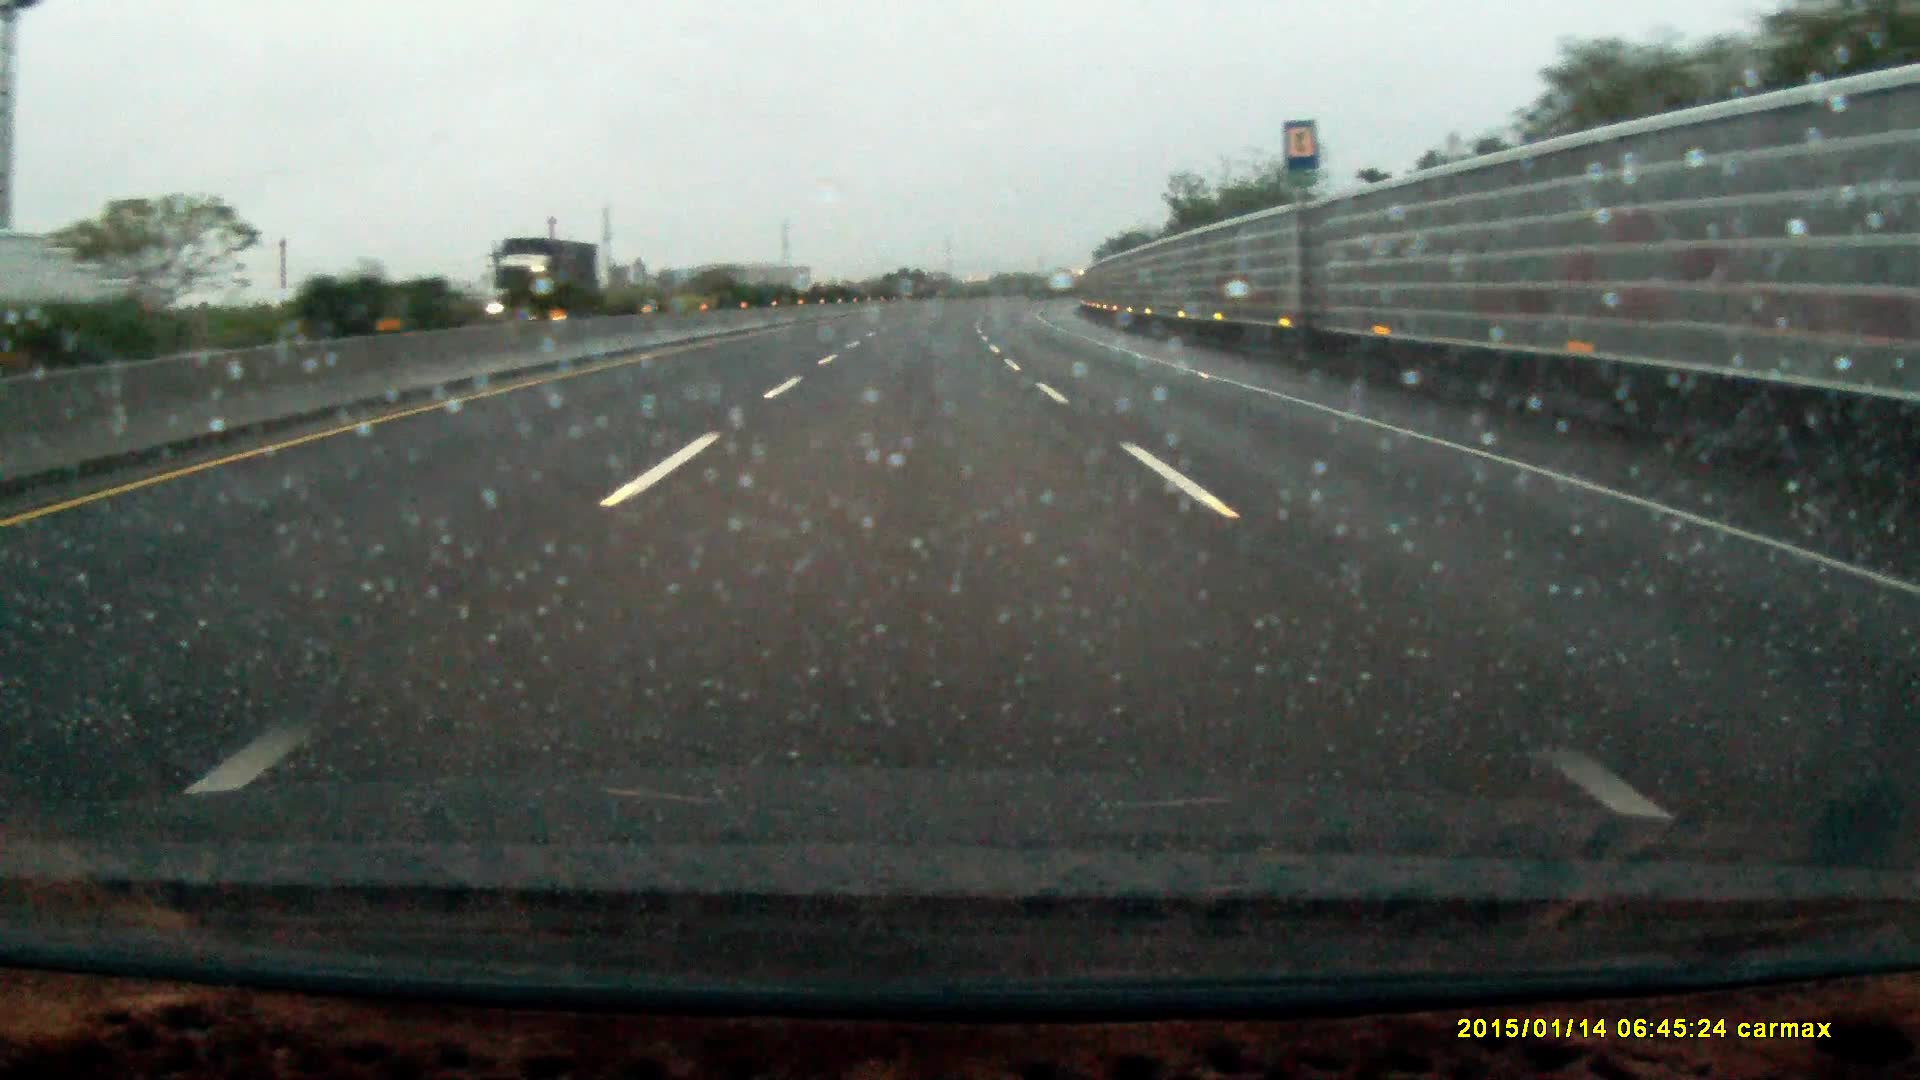vehicle: (495, 237, 599, 324)
